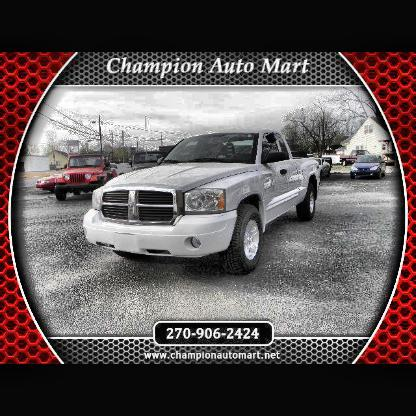Dodge Dakota Club Cab 2007: (83, 129, 323, 270)
